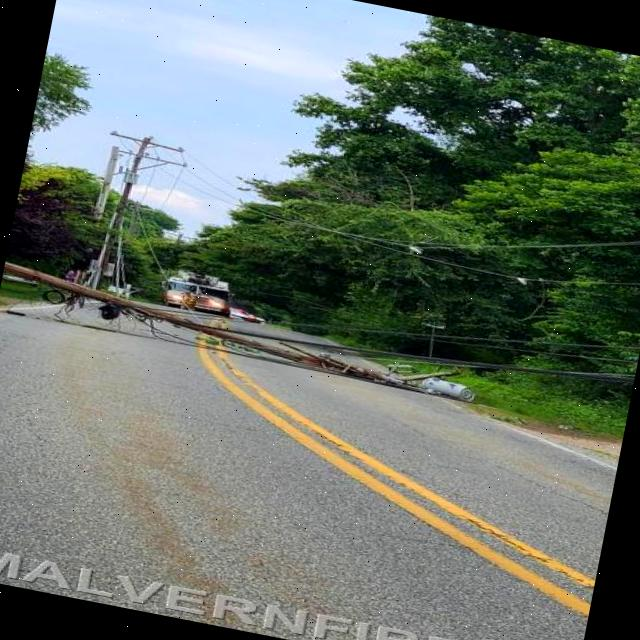Broken Pole: (2, 261, 463, 401)
